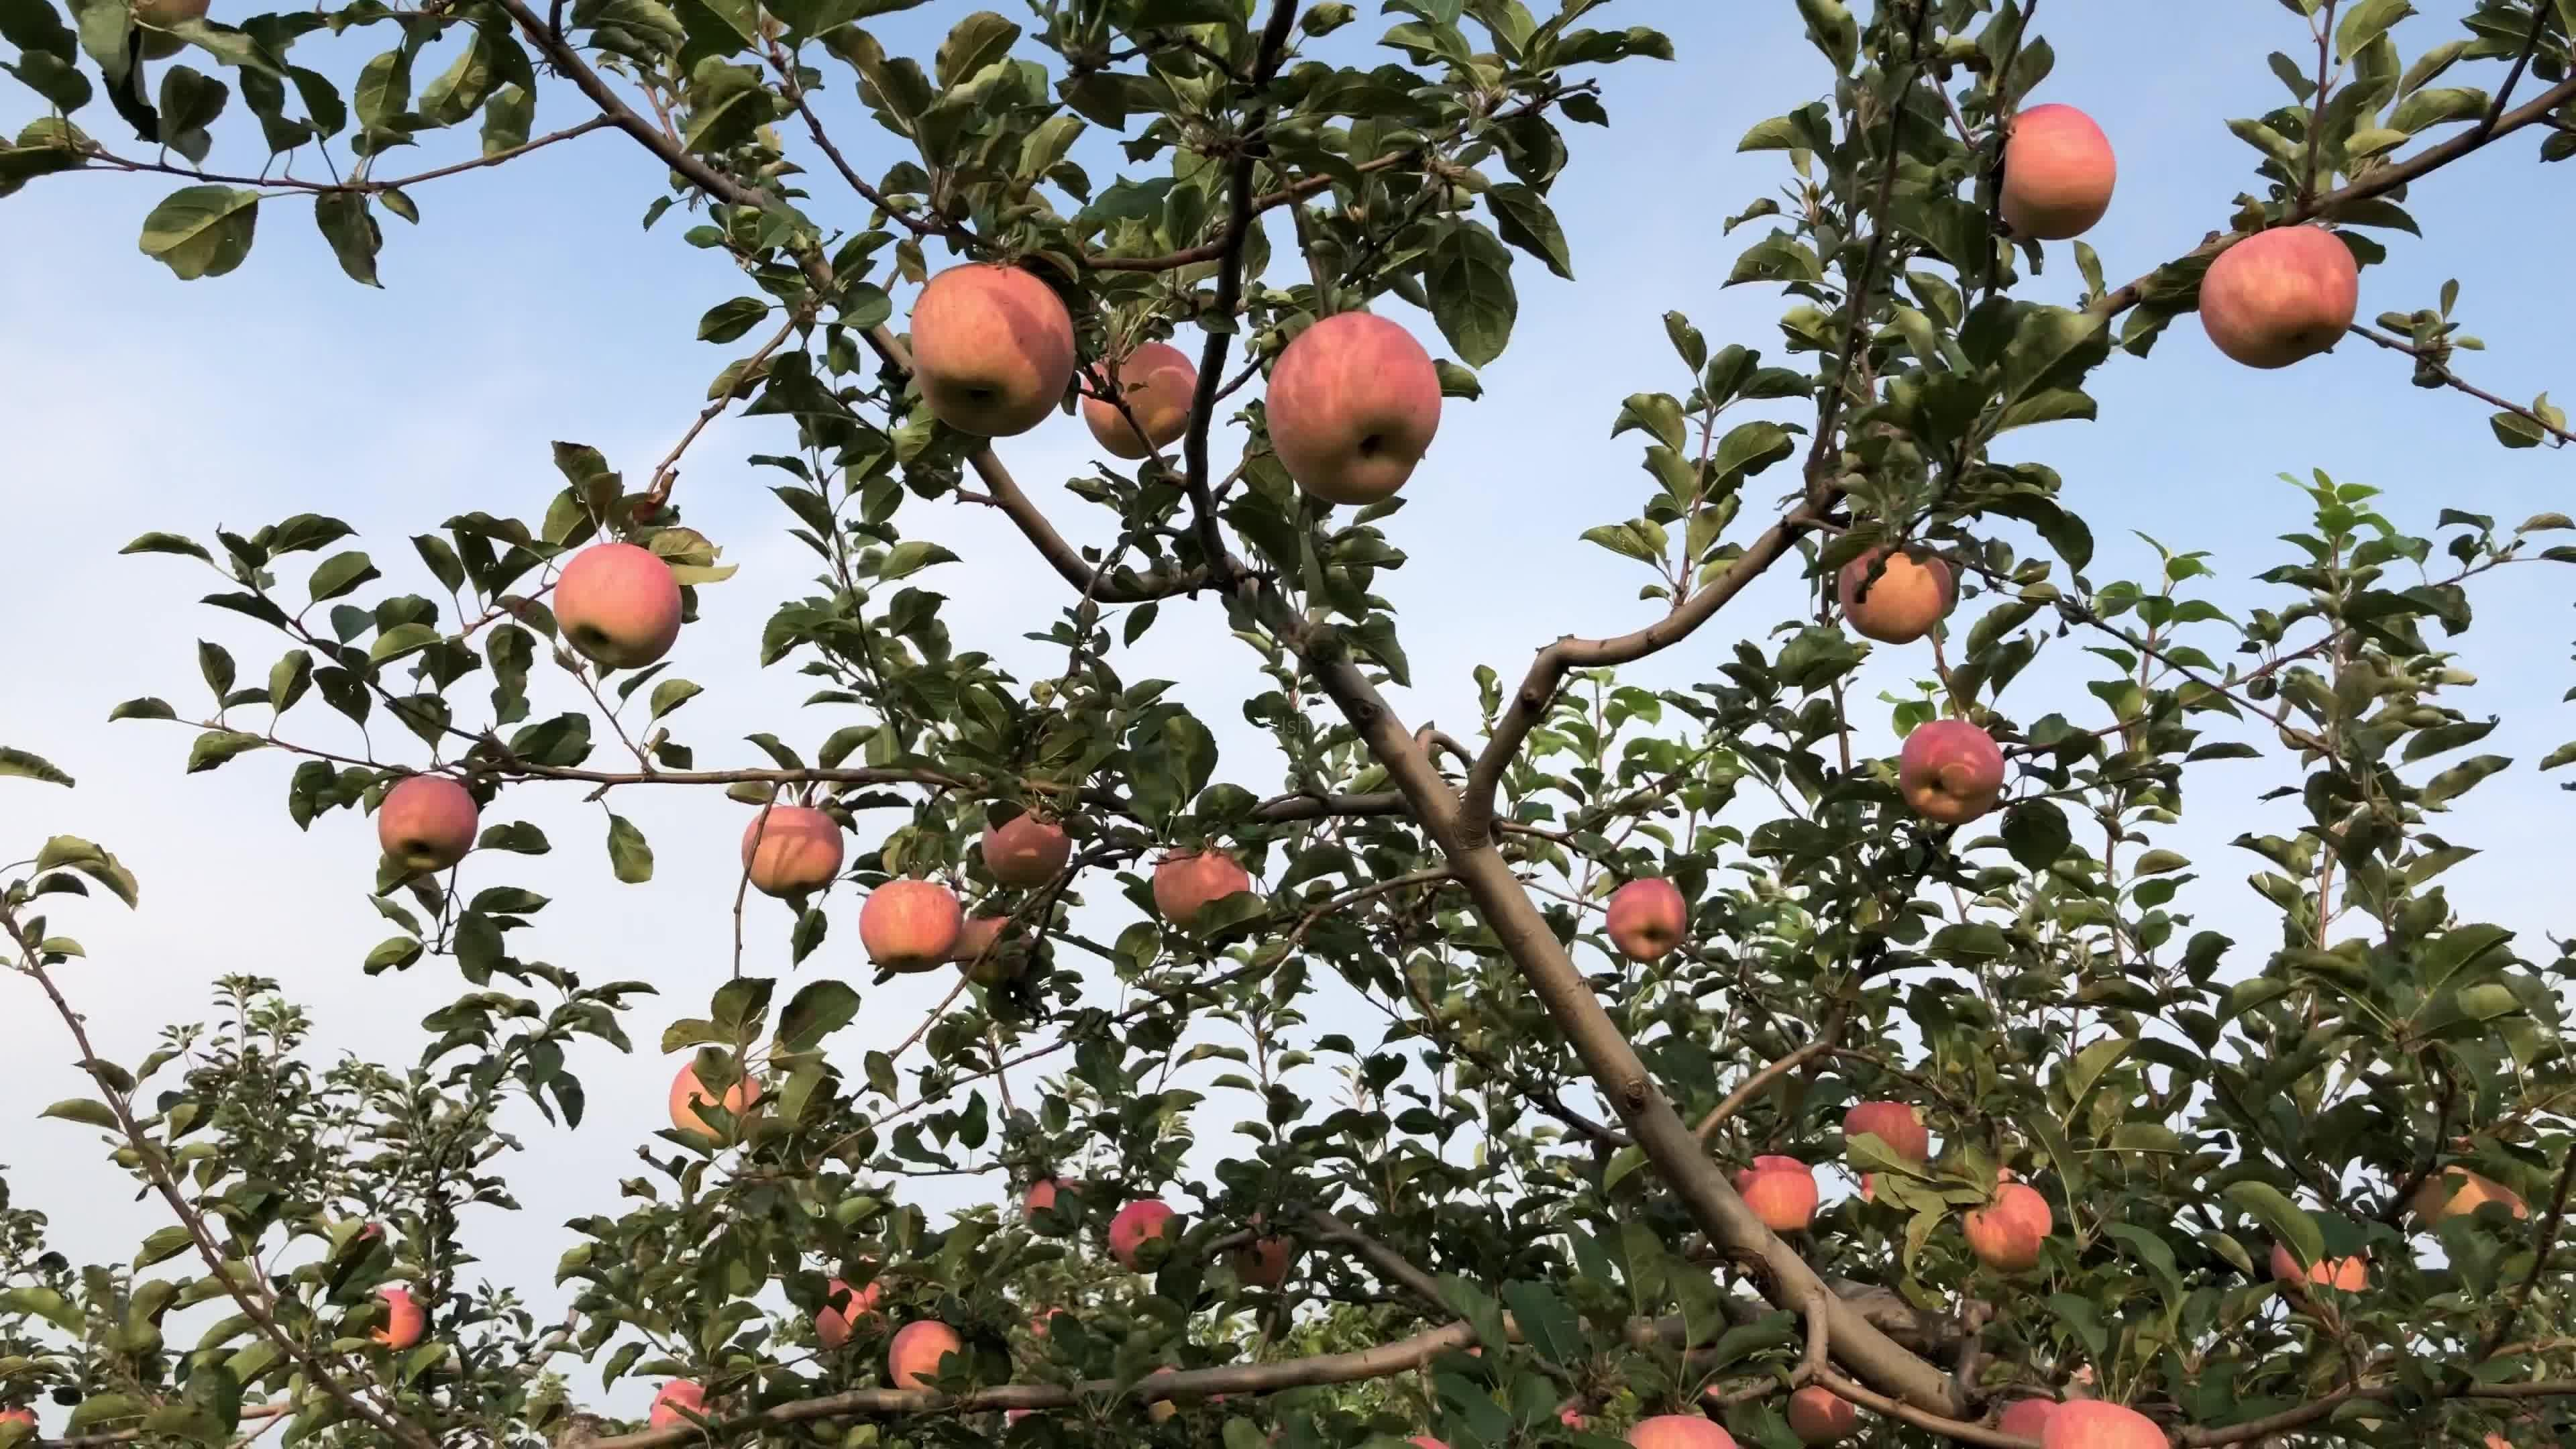apple: (1265, 313, 1440, 511), (529, 522, 731, 686), (909, 265, 1079, 441), (2192, 232, 2364, 375), (1997, 108, 2118, 248), (550, 545, 678, 671), (1077, 341, 1200, 472), (377, 771, 483, 892), (1838, 547, 1960, 648), (1898, 720, 2008, 830), (860, 879, 968, 978), (745, 803, 847, 904), (1152, 851, 1258, 939), (1964, 1184, 2054, 1277), (980, 805, 1072, 895), (1606, 881, 1691, 971), (671, 1065, 761, 1148), (1737, 1162, 1821, 1238), (2043, 1401, 2173, 1449), (1844, 1102, 1932, 1169), (1108, 1201, 1189, 1274), (890, 1323, 966, 1396), (368, 1284, 432, 1352), (1237, 1230, 1302, 1292), (1812, 1162, 1863, 1219)
